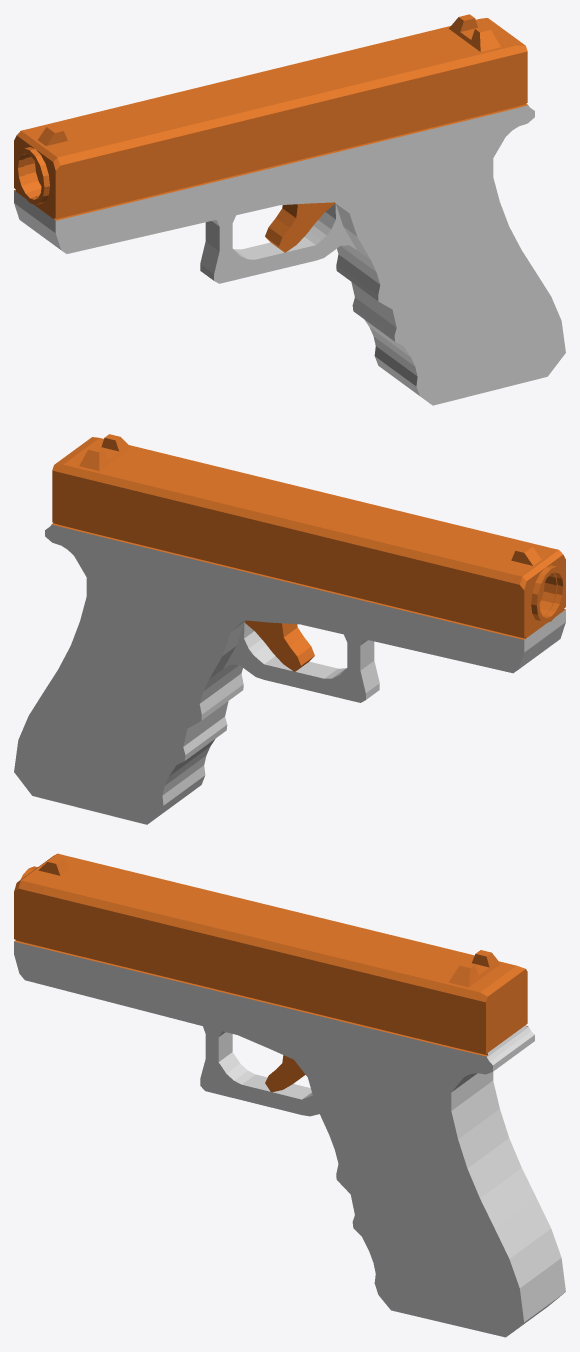
File: pistol.fbx
3 renders of one model, top to bottom at view 1: azimuth 30°, elevation 25°; view 2: azimuth 150°, elevation 25°; view 3: azimuth 330°, elevation 25°, orthographic.
Parts seen in each view (by area): view 1: Cube; view 2: Cube; view 3: Cube.
Part boxes in pixels (box(x1,y1,x2,y2)): Cube: box(14, 14, 565, 405); Cube: box(14, 434, 565, 824); Cube: box(14, 853, 565, 1337).
Size of the model in its own units: 368 by 239 by 51.62.
